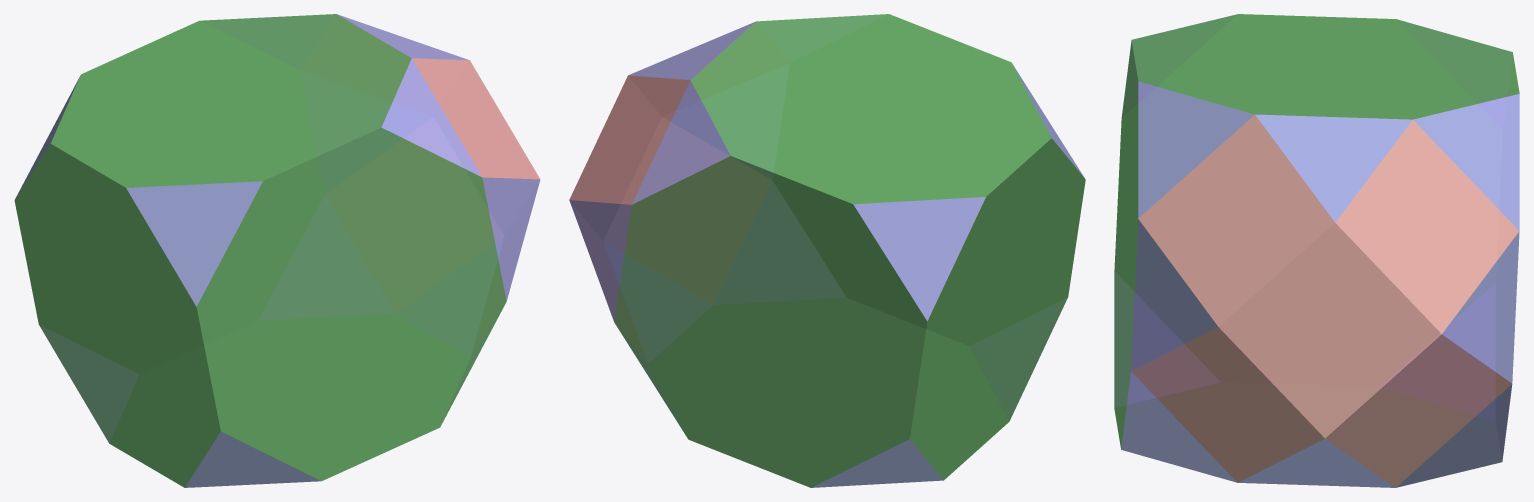
Rendered from j66_augmented_truncated_cube.obj.
3 views of the same model, side by side, from view 1: azimuth 30°, elevation 25°; view 2: azimuth 150°, elevation 25°; view 3: azimuth 270°, elevation 25° (orthographic). The views are drawn at different scales.
Bounding box in the file's own units: 1.9 × 1.58 × 1.43.
